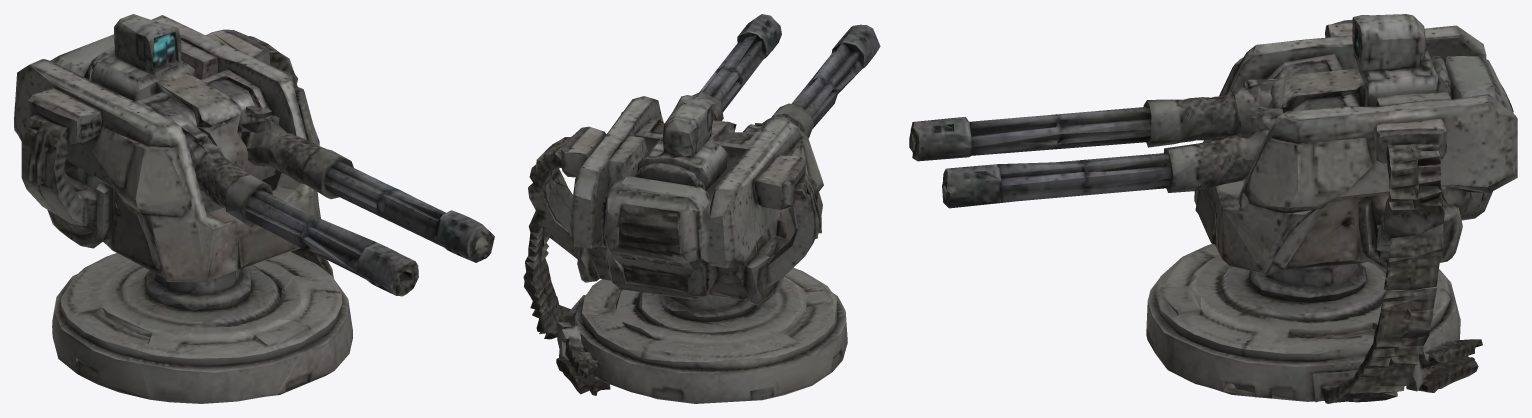
The model's file is struct.ranged_defense.head2.glb.
3 views of the same model, side by side, from view 1: azimuth 30°, elevation 25°; view 2: azimuth 150°, elevation 25°; view 3: azimuth 270°, elevation 25° (orthographic). The views are drawn at different scales.
Parts seen in each view (by area): view 1: body; view 2: body; view 3: body.
Part boxes in pixels (<box>): body: <box>14,14,494,403</box>; body: <box>523,14,880,403</box>; body: <box>909,14,1517,403</box>.
Bounding box in the file's own units: 0.6488 × 0.6284 × 1.1.
Materials: 1 (1 with a texture image).
